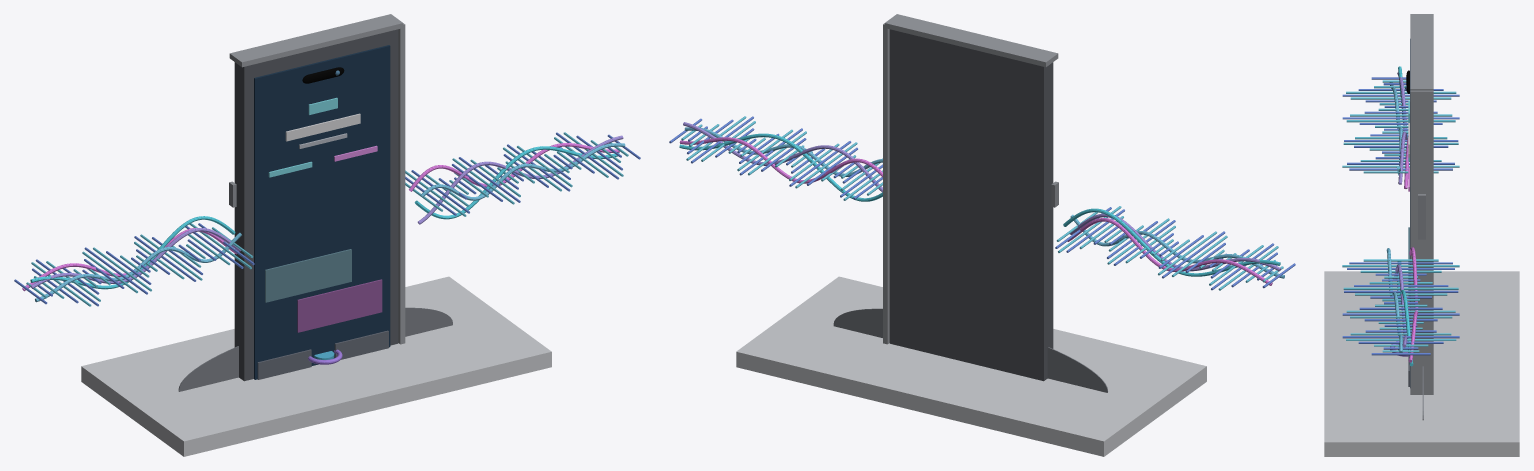
The model's file is nativa_ai_translator_3d.glb.
3 views of the same model, side by side, from view 1: azimuth 30°, elevation 25°; view 2: azimuth 150°, elevation 25°; view 3: azimuth 270°, elevation 25° (orthographic). The views are drawn at different scales.
Visible parts, largest first — view 1: base, screen, phone_body, bubble_left, frame_edge, bubble_right, frame_side, shadow, record_btn, translate_btn, wave_3_right, title (+6 smaller); view 2: phone_body, base, frame_edge, shadow, frame_side, wave_0_left, wave_2_left, wave_2_right, wave_0_right, wave_1_right, wave_3_left, wave_1_left; view 3: base, frame_side, frame_edge, wave_2_right, wave_1_left, right_button, wave_3_right, bar_1_10, bar_1_11, bar_1_19, bar_1_27, bar_1_2 (+21 smaller).
Boxes of the visible parts, x1,y1,x2,y2 form: base: [81, 276, 551, 456]; screen: [254, 45, 390, 379]; phone_body: [234, 29, 398, 381]; bubble_left: [265, 249, 351, 302]; frame_edge: [229, 14, 403, 67]; bubble_right: [297, 279, 382, 332]; frame_side: [398, 23, 405, 344]; shadow: [178, 307, 452, 391]; record_btn: [257, 349, 311, 379]; translate_btn: [334, 330, 388, 359]; wave_3_right: [421, 143, 625, 200]; title: [285, 113, 360, 141]; phone_body: [889, 29, 1053, 381]; base: [736, 276, 1206, 456]; frame_edge: [884, 14, 1058, 67]; shadow: [833, 308, 1107, 392]; frame_side: [883, 23, 889, 344]; wave_0_left: [1063, 208, 1280, 276]; wave_2_left: [1067, 218, 1272, 285]; wave_2_right: [679, 137, 882, 183]; wave_0_right: [679, 133, 882, 201]; wave_1_right: [683, 122, 882, 192]; wave_3_left: [1070, 214, 1284, 278]; wave_1_left: [1070, 213, 1280, 271]; base: [1324, 271, 1519, 456]; frame_side: [1410, 90, 1433, 394]; frame_edge: [1410, 14, 1433, 90]; wave_2_right: [1408, 247, 1418, 362]; wave_1_left: [1397, 72, 1407, 184]; right_button: [1418, 194, 1425, 239]; wave_3_right: [1386, 248, 1402, 352]; bar_1_10: [1343, 287, 1458, 289]; bar_1_11: [1344, 290, 1458, 292]; bar_1_19: [1342, 313, 1459, 315]; bar_1_27: [1342, 336, 1459, 338]; bar_1_2: [1342, 265, 1459, 267].
Bounding box in the file's own units: 10.04 × 5.72 × 3.
